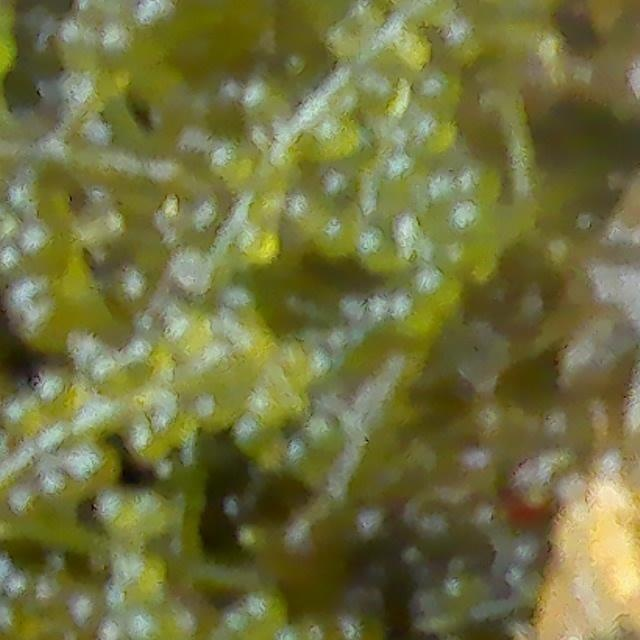SeaGrape: (304, 117, 361, 167), (350, 71, 401, 124), (411, 64, 462, 115), (168, 318, 211, 361), (412, 116, 456, 157), (170, 248, 211, 291), (208, 143, 252, 182), (236, 227, 278, 265), (287, 188, 328, 226), (319, 214, 358, 253), (326, 21, 363, 60), (323, 173, 360, 209), (346, 0, 382, 30)
